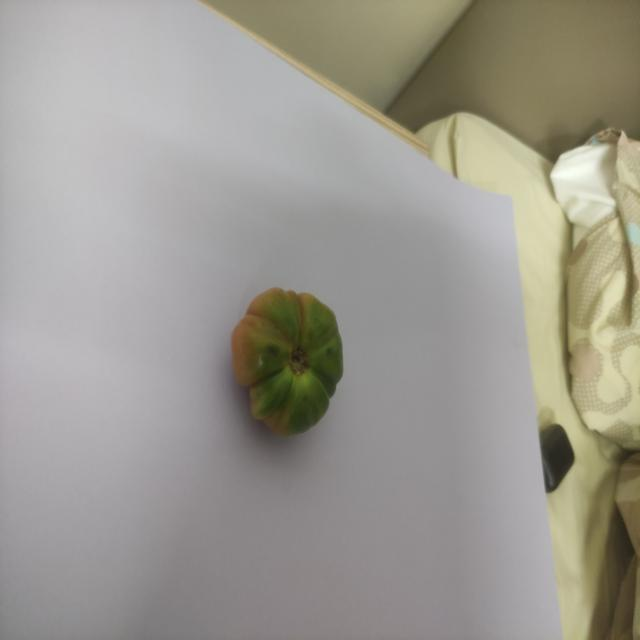yesil: (216, 267, 375, 453)
